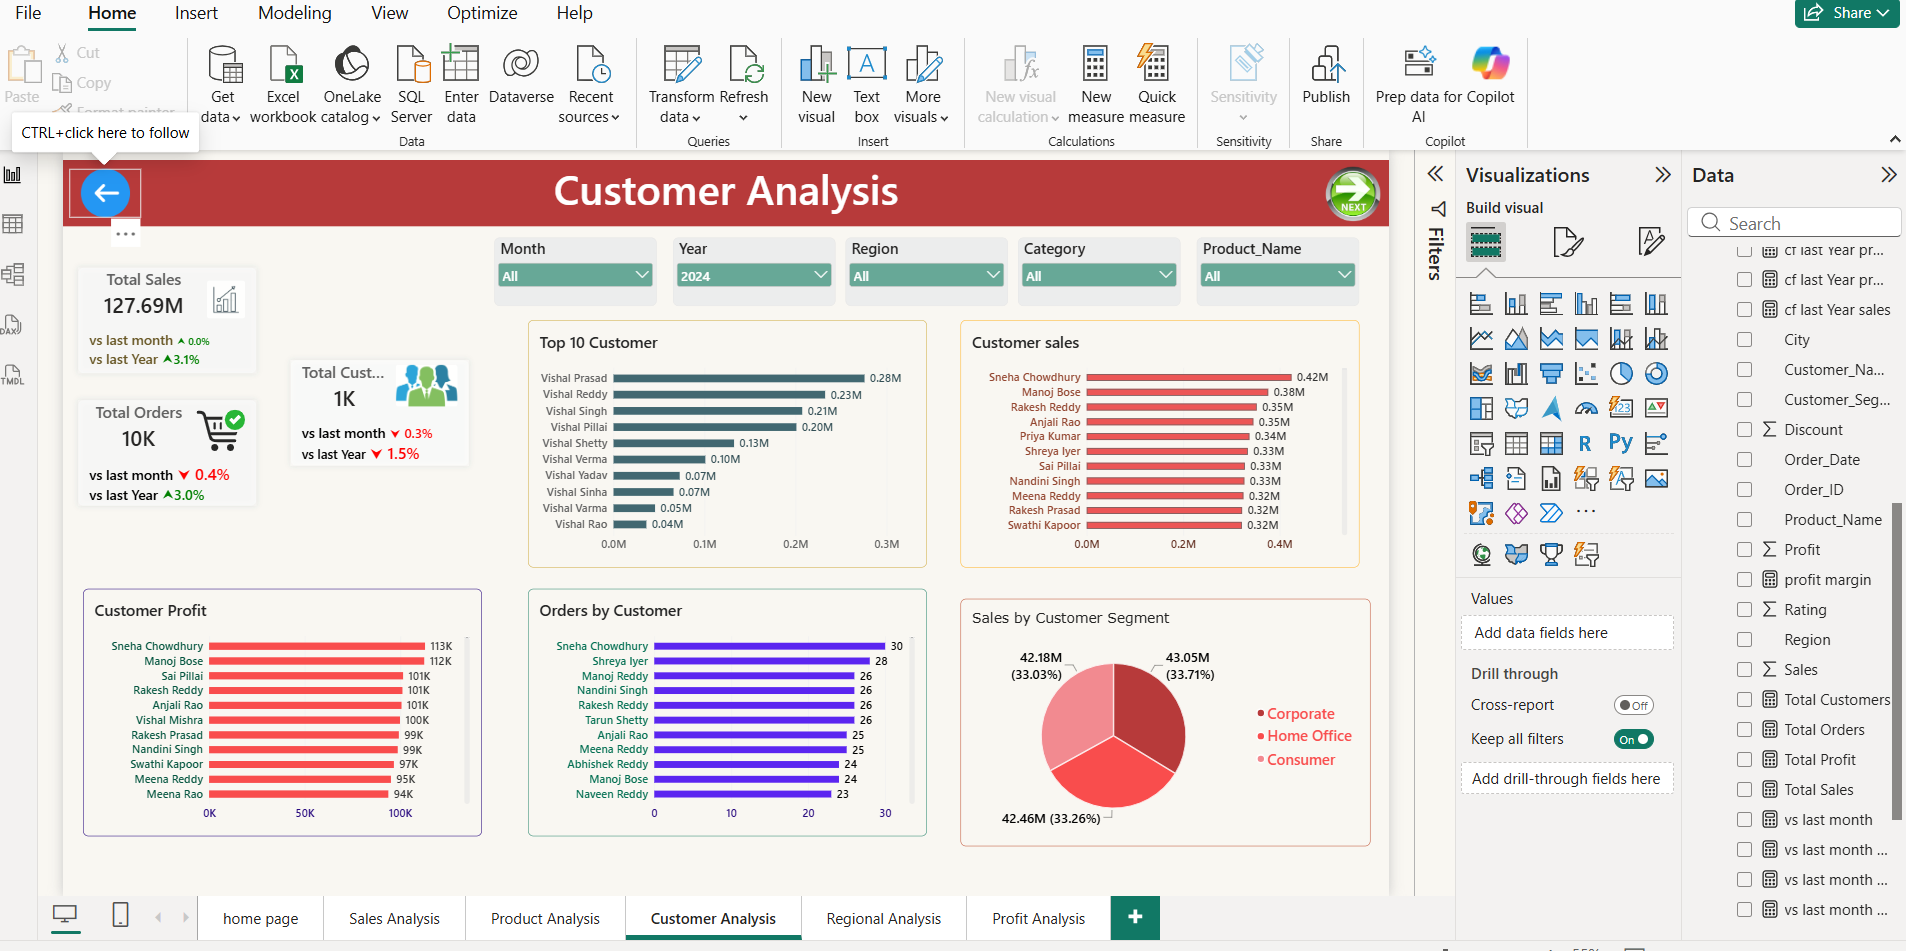

The dashboard page shown, as its layout file describes it:
{"tool":"powerbi","page":{"name":"Customer Analysis","canvas":[1920,1080],"ordinal":3},"visuals":[{"type":"textbox","title":"Customer Analysis","box":[0,14.5,1920.1,121.2],"z":0},{"type":"clusteredBarChart","title":"Top 10 Customer","fields":{"Category":["Table1.Customer_Name"],"Y":["Table1.Total Sales"]},"box":[673.2,246.1,577.3,358.3],"z":1000},{"type":"slicer","fields":{"Values":["date table.Month"]},"box":[624.3,126.7,235.3,99.5],"z":2000},{"type":"slicer","fields":{"Values":["date table.Year"]},"box":[883.1,126.7,235.3,99.5],"z":3000},{"type":"slicer","fields":{"Values":["Table1.Region"]},"box":[1132.8,126.7,235.3,99.5],"z":4000},{"type":"slicer","fields":{"Values":["Table1.Category"]},"box":[1382.6,126.7,235.3,99.5],"z":5000},{"type":"slicer","fields":{"Values":["Table1.Product_Name"]},"box":[1641.4,126.7,235.3,99.5],"z":6000},{"type":"barChart","title":"Customer sales","fields":{"Category":["Table1.Customer_Name"],"Y":["Table1.Total Sales"]},"box":[1299.3,246.1,577.3,358.3],"z":7000},{"type":"barChart","title":"Customer  Profit","fields":{"Category":["Table1.Customer_Name"],"Y":["Table1.Total Profit"]},"box":[29,635.2,577.3,358.3],"z":8000},{"type":"barChart","title":" Orders by Customer","fields":{"Category":["Table1.Customer_Name"],"Y":["Table1.Total Orders"]},"box":[673.2,635.2,577.3,358.3],"z":9000},{"type":"pieChart","title":" Sales by Customer Segment","fields":{"Category":["Table1.Customer_Segment"],"Y":["Table1.Total Sales"]},"box":[1299.3,649.7,593.6,358.3],"z":10000},{"type":"cardVisual","fields":{"Data":["Table1.Total Sales"]},"box":[10.9,159.3,280.5,175],"z":11000},{"type":"cardVisual","fields":{"Data":["Table1.Total Orders"]},"box":[10.9,351.1,280.5,175],"z":12000},{"type":"cardVisual","fields":{"Data":["Table1.Total Customers"]},"box":[318.5,293.2,280.5,175],"z":13000},{"type":"image","box":[9,27.1,105,70.6],"z":14000},{"type":"image","box":[1815.4,14.4,105,109.1],"z":15000}]}

Visuals, with their boxes on the page's 1920x1080 design canvas (x1, y1, x2, y2). These are canvas units, not pixel positions in the 1906x951 screenshot, which may show the page scaled, cropped or inside an application window:
"Customer Analysis" textbox: x1=0 y1=14 x2=1920 y2=136
"Top 10 Customer" clusteredBarChart: x1=673 y1=246 x2=1250 y2=604
slicer - date table.Month: x1=624 y1=127 x2=860 y2=226
slicer - date table.Year: x1=883 y1=127 x2=1118 y2=226
slicer - Table1.Region: x1=1133 y1=127 x2=1368 y2=226
slicer - Table1.Category: x1=1383 y1=127 x2=1618 y2=226
slicer - Table1.Product_Name: x1=1641 y1=127 x2=1877 y2=226
"Customer sales" barChart: x1=1299 y1=246 x2=1877 y2=604
"Customer  Profit" barChart: x1=29 y1=635 x2=606 y2=994
" Orders by Customer" barChart: x1=673 y1=635 x2=1250 y2=994
" Sales by Customer Segment" pieChart: x1=1299 y1=650 x2=1893 y2=1008
cardVisual - Table1.Total Sales: x1=11 y1=159 x2=291 y2=334
cardVisual - Table1.Total Orders: x1=11 y1=351 x2=291 y2=526
cardVisual - Table1.Total Customers: x1=318 y1=293 x2=599 y2=468
image: x1=9 y1=27 x2=114 y2=98
image: x1=1815 y1=14 x2=1920 y2=124
